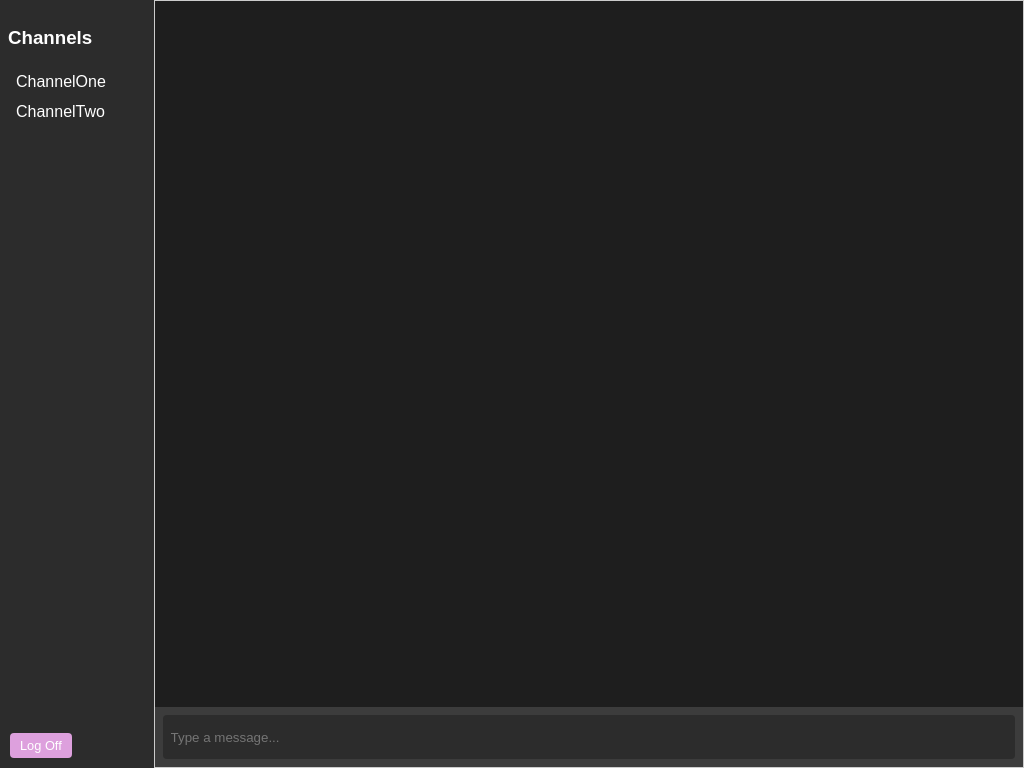
Test: Channel Switching › loads ChannelOne then switches to ChannelTwo
This screenshot has width=1024, height=768.
Click the button "ChannelOne". click: [77, 82]
box: [8,67,146,97]
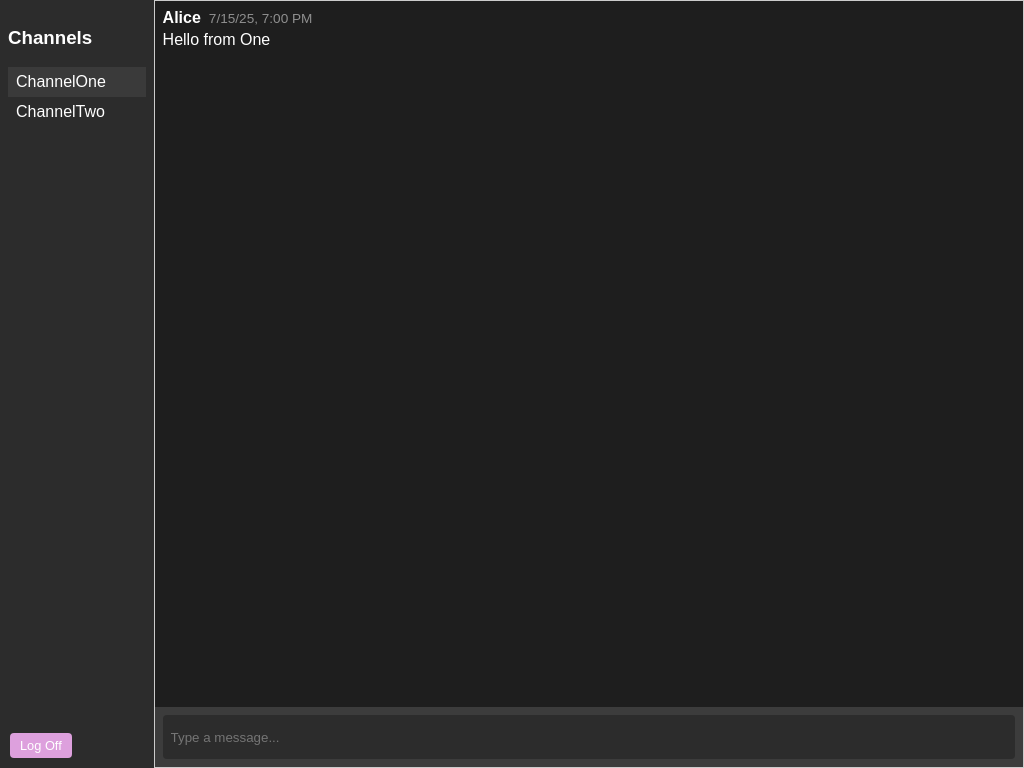
Now the number of elements with class "message-body" is 1, box [163,31,271,48]
Now the text with class "message-body" reads "Hello from One", box [163,31,271,48]
Click the button "ChannelTwo". click: [77, 112]
box: [8,97,146,127]
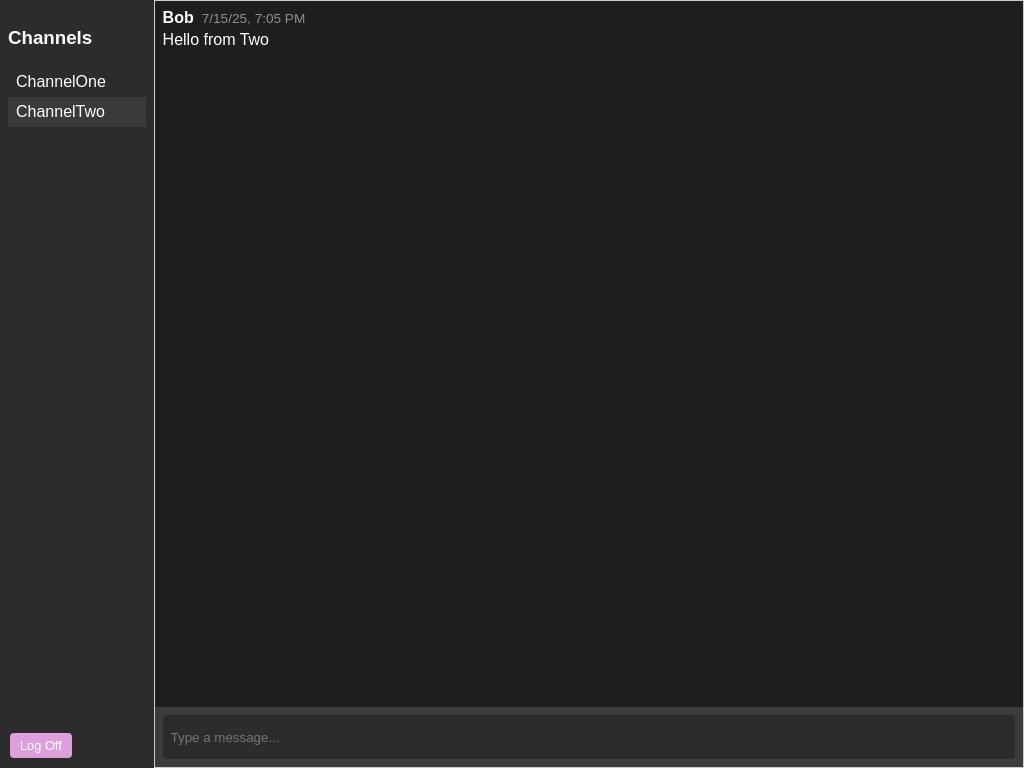
Now the number of elements with class "message-body" is 1, box [163,31,269,48]
Now the text with class "message-body" reads "Hello from Two", box [163,31,269,48]
Now the text with class "message-body" no longer shows "Hello from One"
